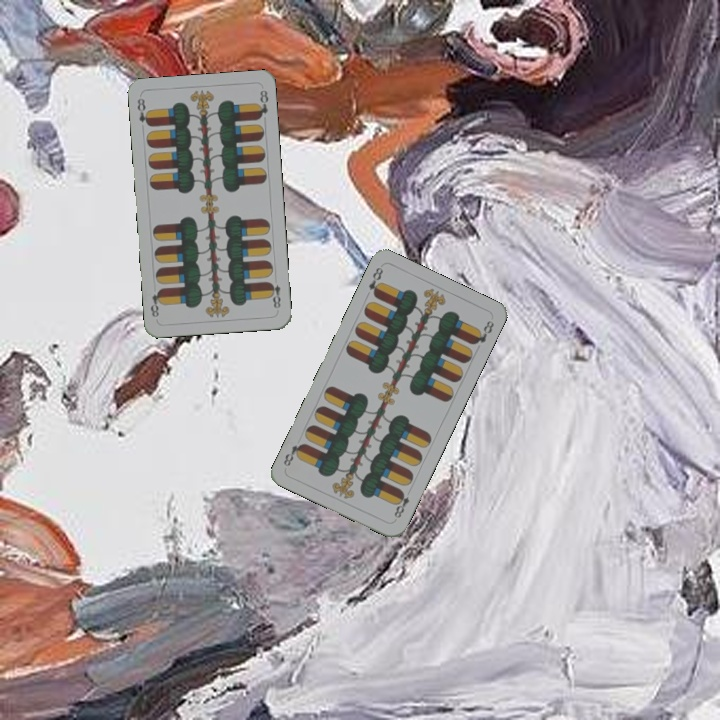E8: (364, 263, 386, 300), (390, 487, 412, 521), (133, 94, 153, 129), (265, 278, 283, 311)
